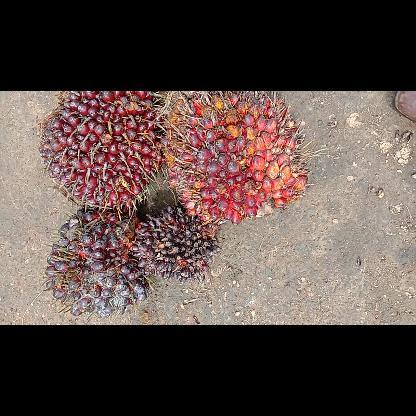Kurang masak: (35, 90, 162, 214), (42, 206, 148, 316)
TBS abnormal: (130, 204, 219, 284)
TBS masak: (160, 91, 312, 231)
